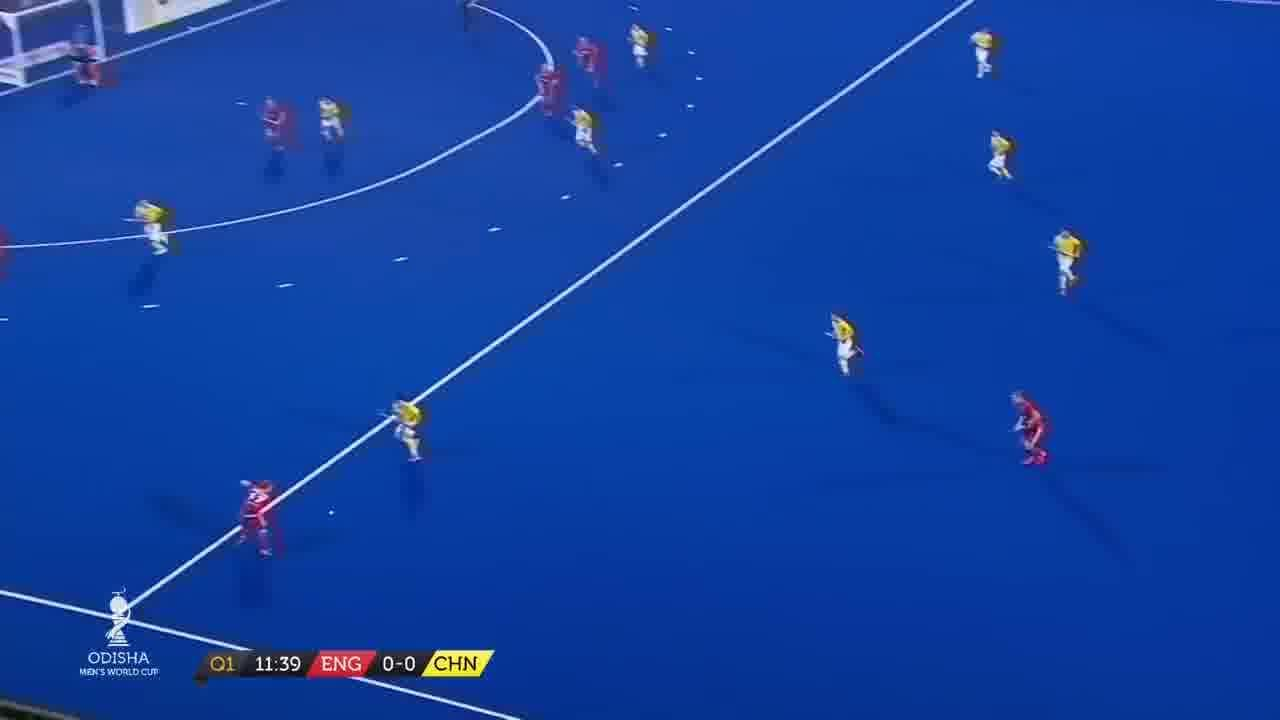ball: (320, 504, 342, 520)
